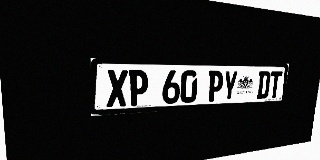0: (180, 70, 198, 103)
6: (162, 70, 181, 104)
D: (256, 71, 271, 99)
P: (128, 70, 148, 106), (207, 70, 224, 102)
T: (268, 71, 282, 98)
X: (106, 70, 128, 107)
Y: (222, 71, 238, 101)
